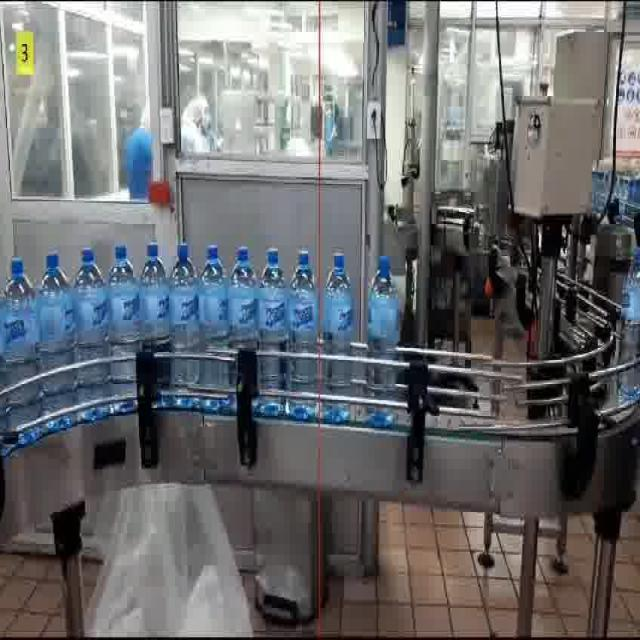bottle: (36, 250, 76, 395), (0, 252, 36, 407), (254, 246, 289, 393), (320, 250, 356, 390), (74, 246, 109, 386), (197, 243, 230, 390), (285, 247, 319, 387), (366, 255, 401, 391), (108, 241, 138, 385), (170, 243, 199, 384), (137, 240, 171, 349), (226, 244, 259, 349)
